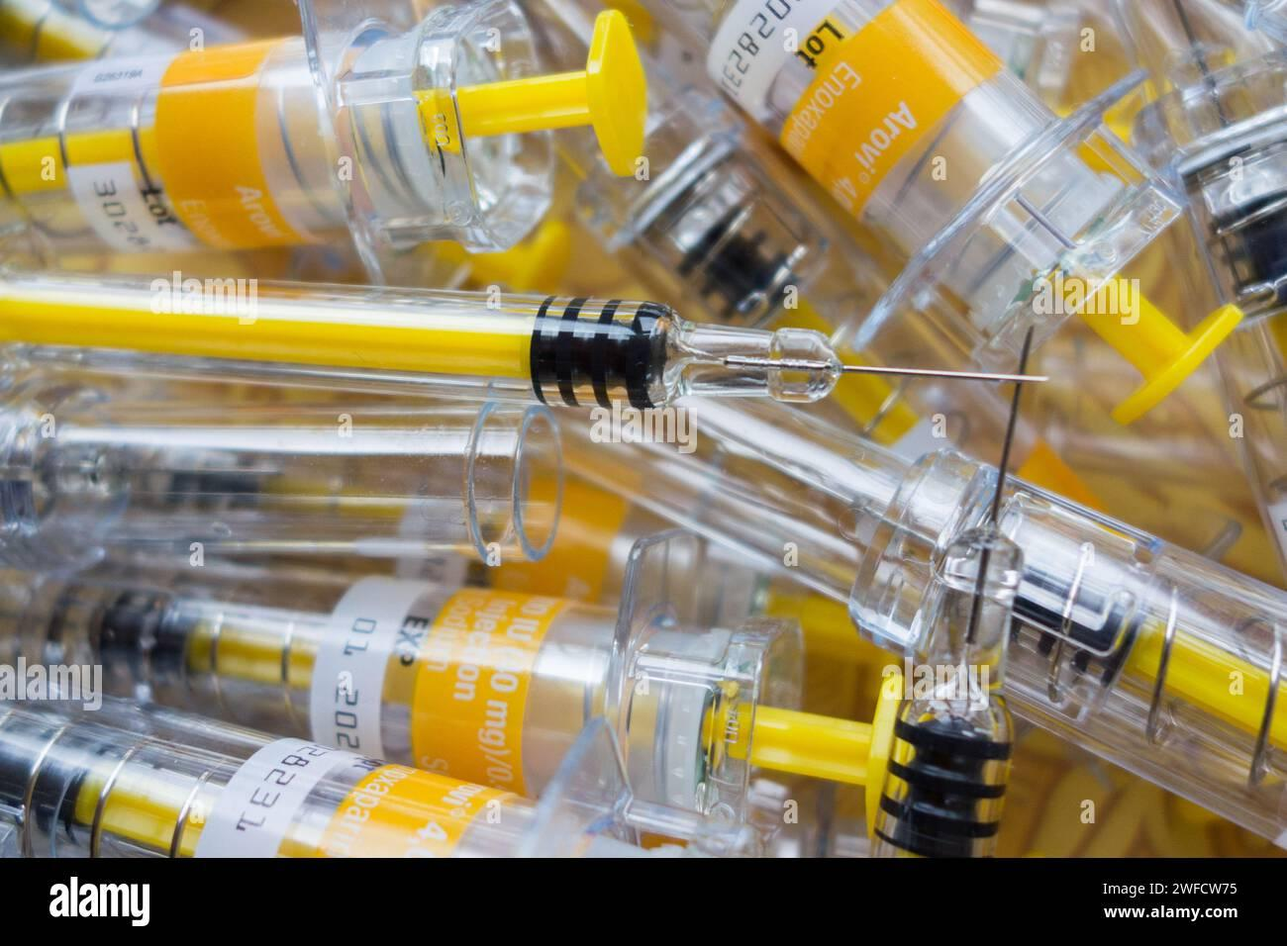Syringe: (0, 532, 902, 822), (656, 0, 1239, 422), (0, 0, 644, 276), (0, 271, 1015, 408), (559, 53, 973, 368), (0, 349, 560, 569), (565, 401, 995, 654), (0, 703, 645, 856), (1119, 0, 1286, 562), (0, 0, 240, 62), (1223, 0, 1286, 42)
